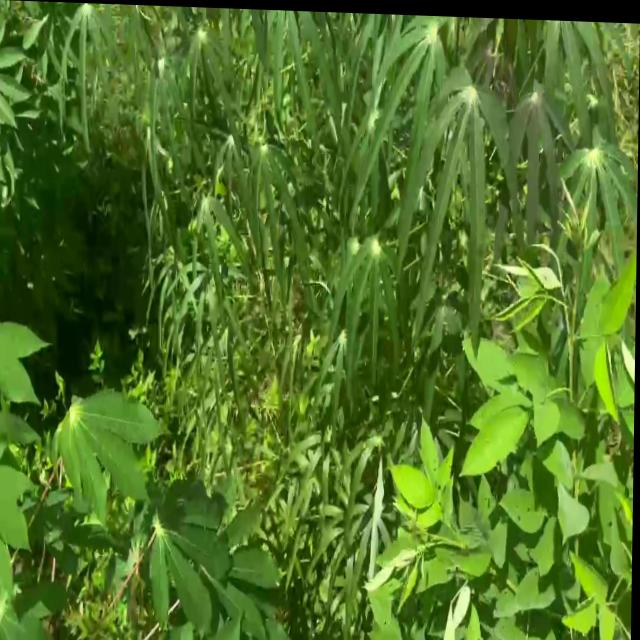Maleza: (468, 313, 640, 563), (365, 465, 529, 606), (470, 510, 640, 618), (529, 255, 640, 393)
